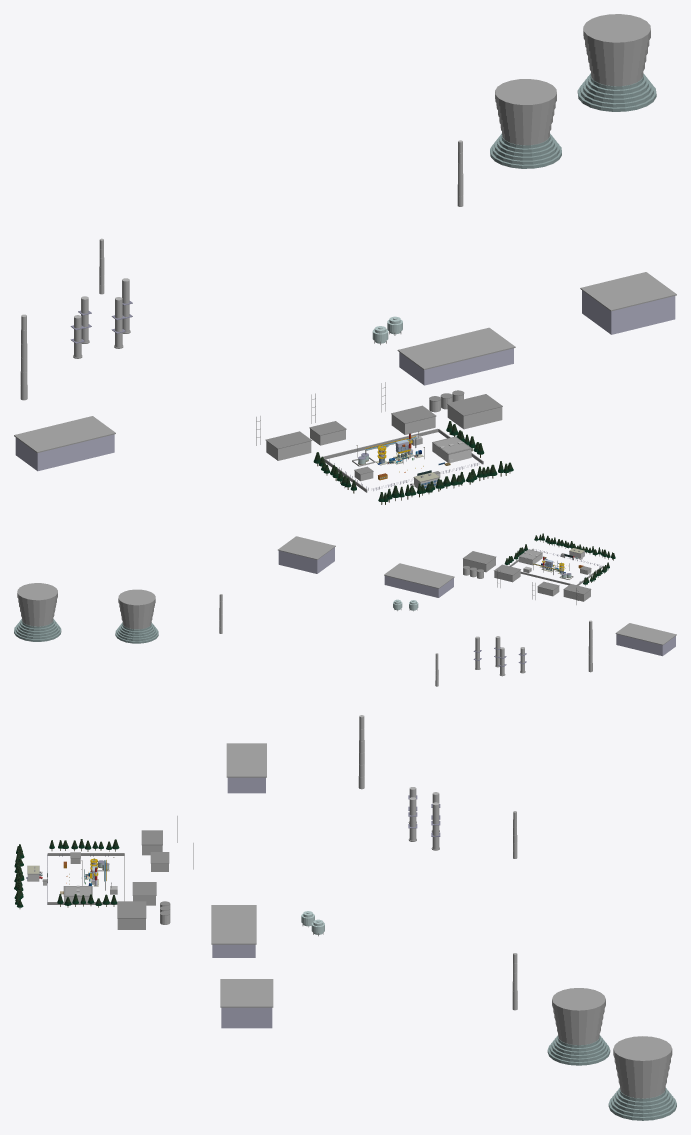
The model's file is WMPSES装置_可编辑.glb.
3 renders of one model, top to bottom at view 1: azimuth 30°, elevation 25°; view 2: azimuth 150°, elevation 25°; view 3: azimuth 270°, elevation 25°, orthographic. The views are drawn at different scales.
Visible parts, largest first — view 1: part_061, part_079, part_076, part_074, part_058, part_053, part_073, part_072; view 2: part_061, part_079, part_076, part_074, part_058, part_053, part_073, part_072; view 3: part_061, part_076, part_079, part_074, part_053, part_058, part_073, part_072.
Boxes of the visible parts, x1,y1,x2,y2 form: part_061: (14,14,676,492); part_079: (15,290,675,471); part_076: (490,73,656,168); part_074: (20,140,463,412); part_058: (266,405,502,481); part_053: (265,394,502,482); part_073: (314,421,512,499); part_072: (313,428,513,501); part_061: (17,536,676,676); part_079: (278,547,675,656); part_076: (14,619,158,643); part_074: (219,568,592,686); part_058: (463,550,591,601); part_053: (463,548,591,594); part_073: (505,533,614,582); part_072: (504,538,615,584); part_061: (47,743,672,1098); part_076: (547,1035,676,1120); part_079: (212,777,272,1028); part_074: (160,715,517,1010); part_053: (27,830,169,918); part_058: (34,845,168,929); part_073: (15,839,118,905); part_072: (14,845,119,907).
Size of what is drawn, in the model's own units: 667 by 62 by 519.
